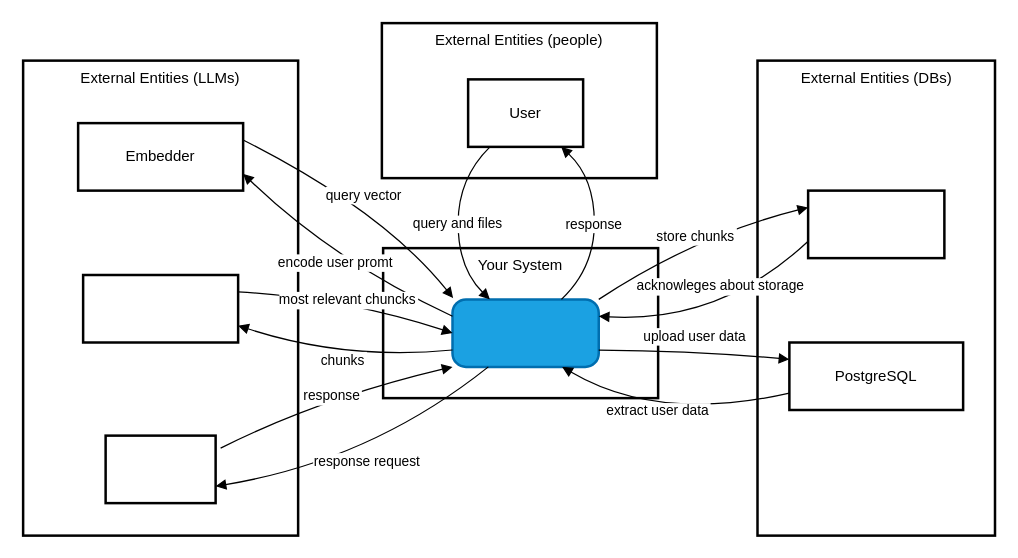
The diagram is 1018 pixels wide and 558 high, and some of its shapes have lost their labels. The centre of each missing label's shape, as x and y in pixels:
"LLM" goes at [160,469].
"Qdrant" goes at [875,224].
"RAG system" goes at [525,333].
"Reranker" goes at [160,308].
